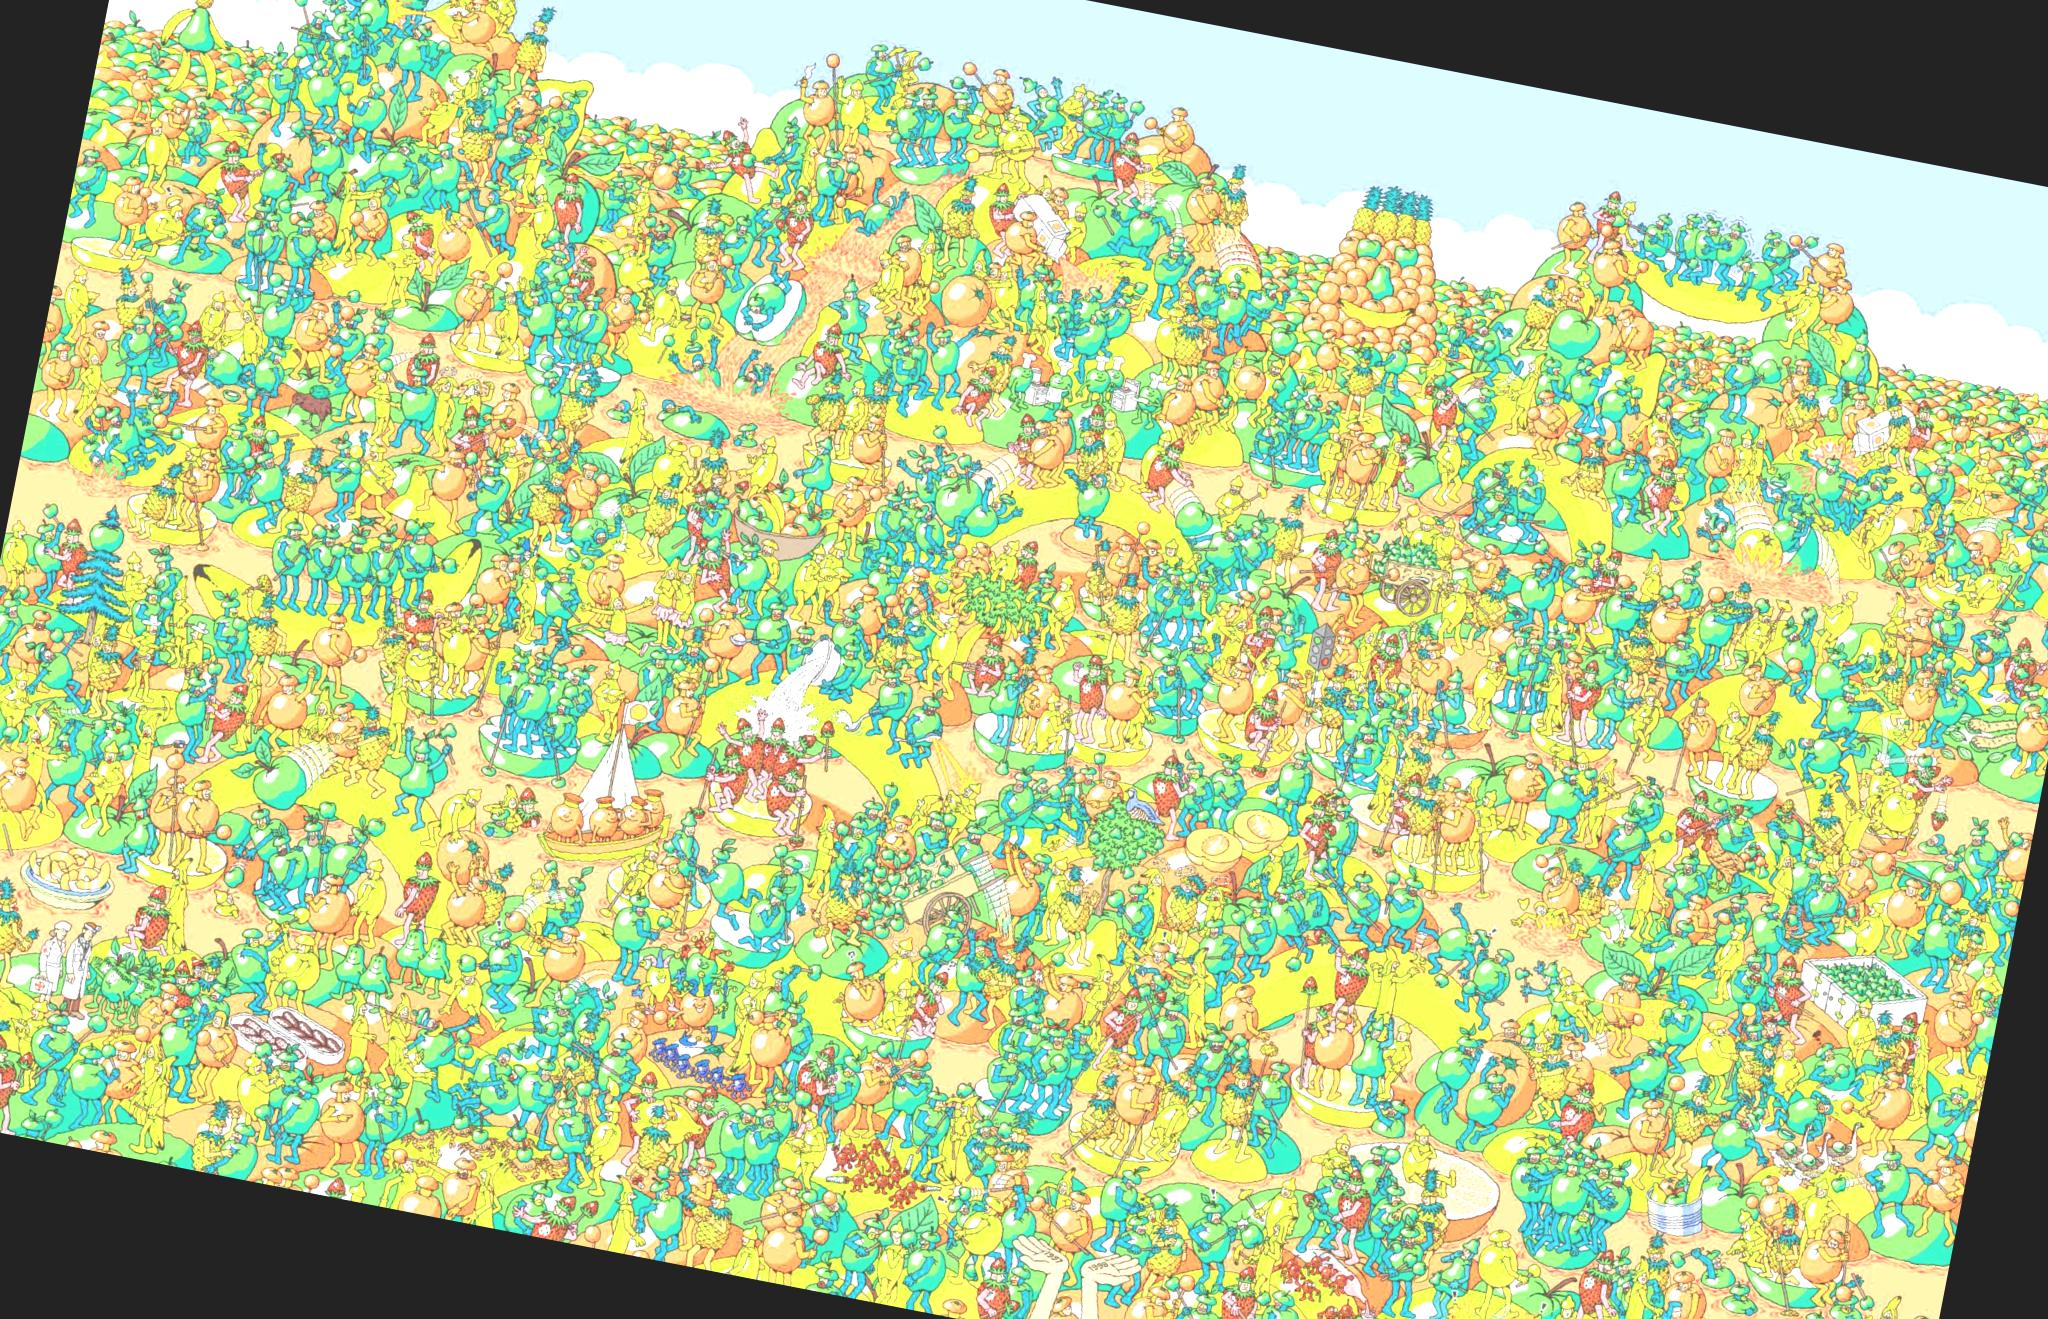waldo: (1758, 1015, 1776, 1034)
